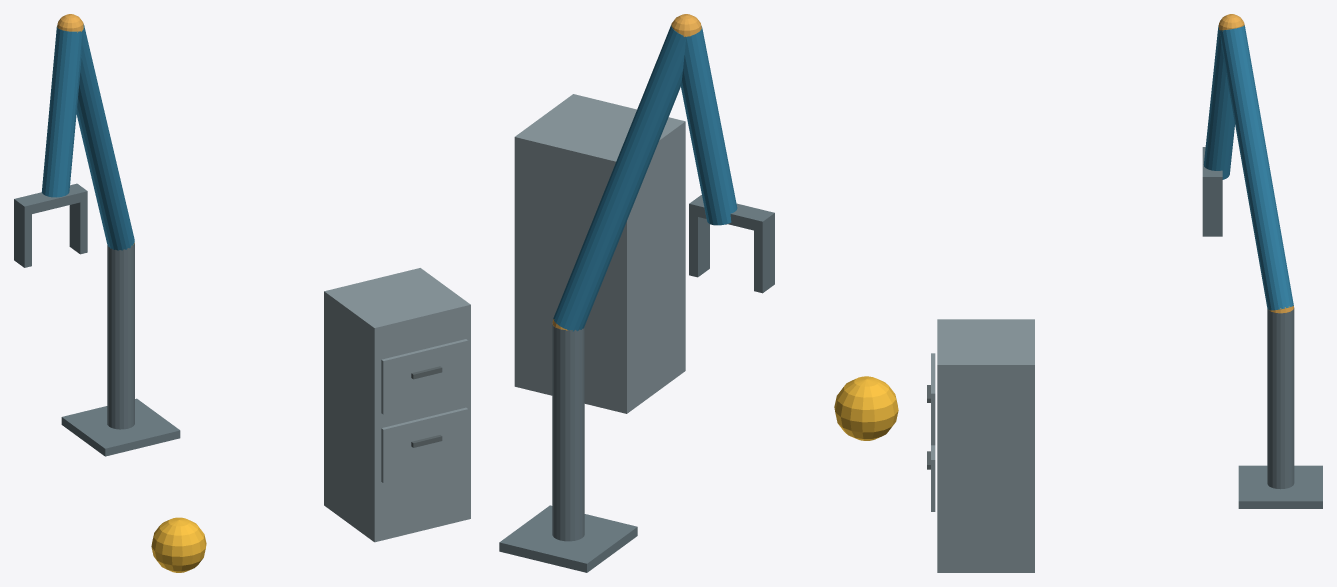
3 renders of one model, left to right at view 1: azimuth 30°, elevation 25°; view 2: azimuth 150°, elevation 25°; view 3: azimuth 270°, elevation 25°, orthographic. The views are drawn at different scales.
Parts seen in each view (by area): view 1: cabinet_1 body, moving link 1, fixed post, cabinet_1 drawer front.001, cabinet_1 drawer front, moving link 2, pedestal, ball ball_1, gripper bridge, gripper finger -1, gripper finger 1; view 2: cabinet_1 body, moving link 1, fixed post, moving link 2, pedestal, ball ball_1, gripper finger -1, gripper bridge, gripper finger 1, joint 2; view 3: cabinet_1 body, moving link 1, fixed post, pedestal, moving link 2, gripper finger 1.
Boxes of the visible parts, left/top/right/bottom form: cabinet_1 body: left=324, top=268, right=470, bottom=542; moving link 1: left=76, top=24, right=134, bottom=250; fixed post: left=107, top=243, right=134, bottom=429; cabinet_1 drawer front.001: left=381, top=339, right=468, bottom=414; cabinet_1 drawer front: left=381, top=407, right=468, bottom=483; moving link 2: left=42, top=27, right=82, bottom=197; pedestal: left=61, top=398, right=180, bottom=456; ball ball_1: left=151, top=517, right=206, bottom=572; gripper bridge: left=14, top=183, right=87, bottom=215; gripper finger -1: left=14, top=208, right=31, bottom=267; gripper finger 1: left=69, top=200, right=87, bottom=254; cabinet_1 body: left=514, top=94, right=685, bottom=413; moving link 1: left=553, top=25, right=686, bottom=331; fixed post: left=552, top=324, right=584, bottom=541; moving link 2: left=681, top=26, right=737, bottom=225; pedestal: left=499, top=505, right=637, bottom=572; ball ball_1: left=834, top=376, right=898, bottom=440; gripper finger -1: left=754, top=224, right=774, bottom=293; gripper bridge: left=689, top=195, right=774, bottom=232; gripper finger 1: left=689, top=215, right=709, bottom=277; joint 2: left=671, top=14, right=701, bottom=37; cabinet_1 body: left=937, top=319, right=1034, bottom=572; moving link 1: left=1220, top=25, right=1293, bottom=310; fixed post: left=1267, top=308, right=1294, bottom=489; pedestal: left=1238, top=465, right=1322, bottom=508; moving link 2: left=1203, top=25, right=1234, bottom=179; gripper finger 1: left=1202, top=186, right=1222, bottom=236.
Size of the model in its own units: 1.03 by 1.44 by 1.17.
